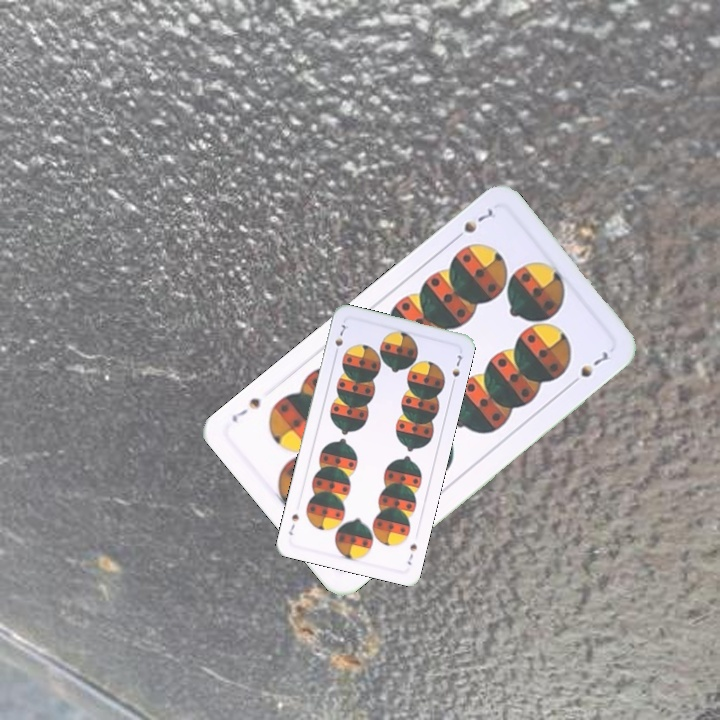S7: (448, 204, 496, 245), (330, 320, 348, 358), (403, 540, 420, 568)
